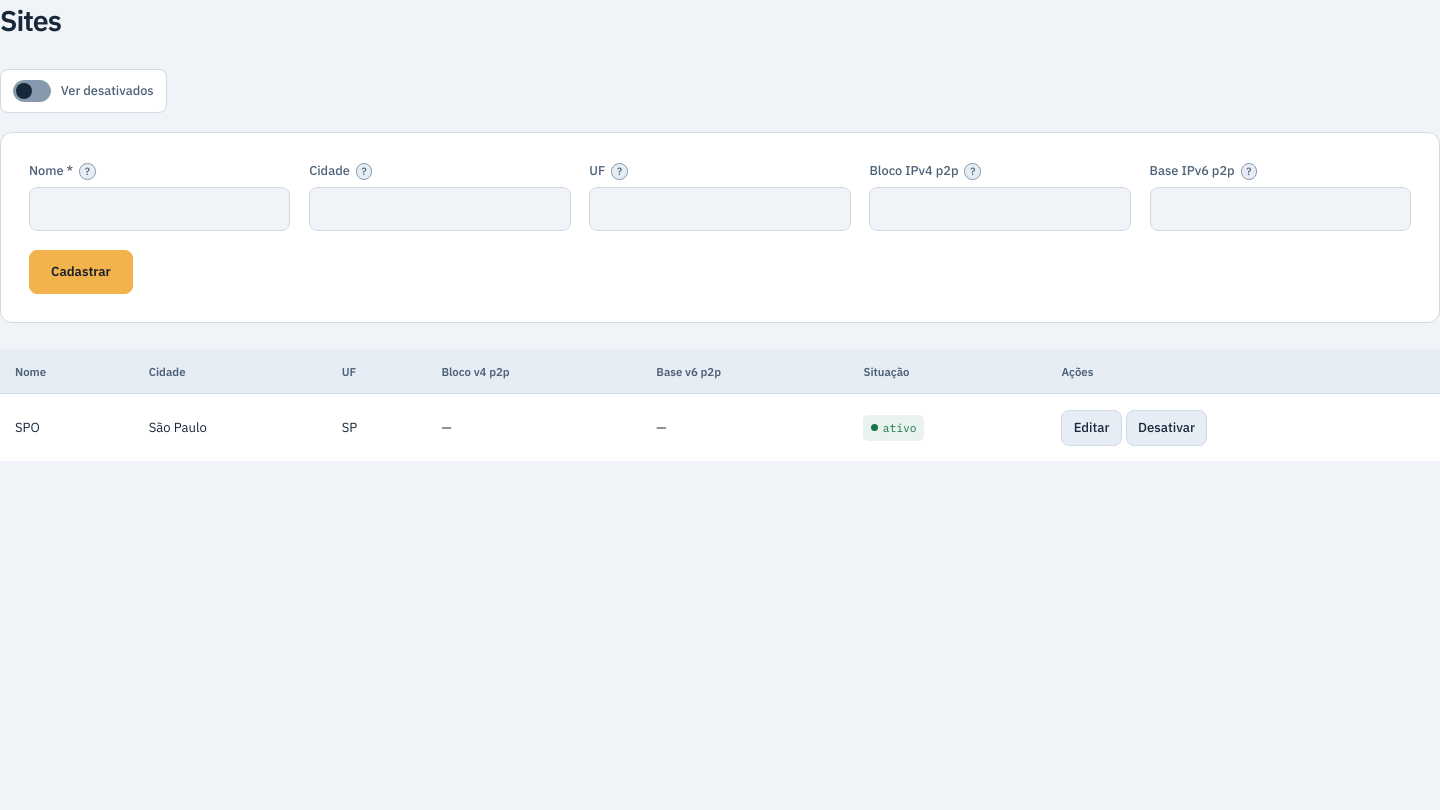
Scenario: Sites › Editar preenche o modal, envia PATCH e fecha
Check: the text "SPO" is shown, box top-left (0, 394), bottom-right (134, 462)
Click the button "Editar": (1092, 428) top-left (1062, 410), bottom-right (1122, 446)
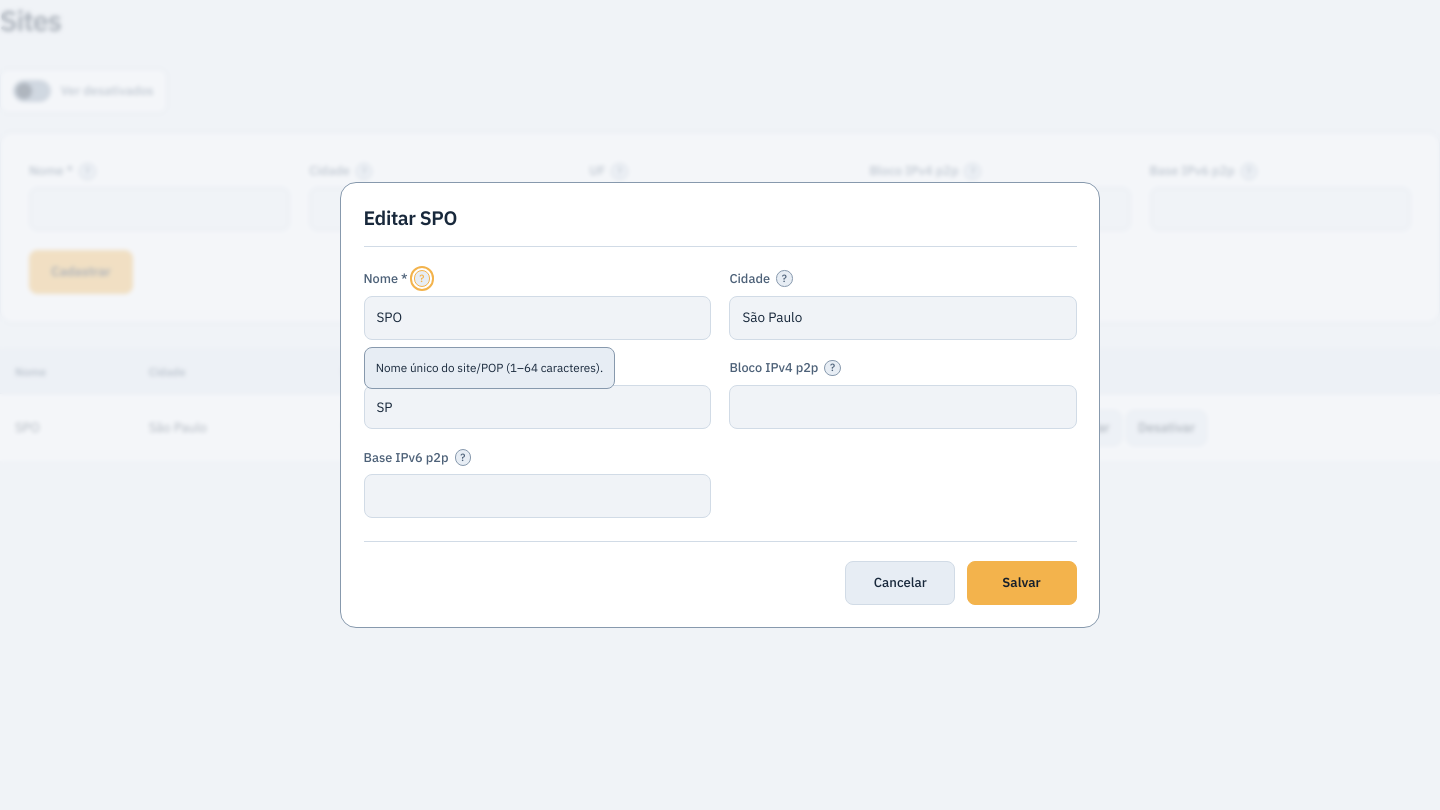
Check: the field labelled "Nome * Nome único do site/POP (1–64 caracteres). ?" holds "SPO"
Replace the text in the field labelled "Nome * Nome único do site/POP (1–64 caracteres). ?" with "SPO-2": (537, 318) top-left (364, 296), bottom-right (711, 340)
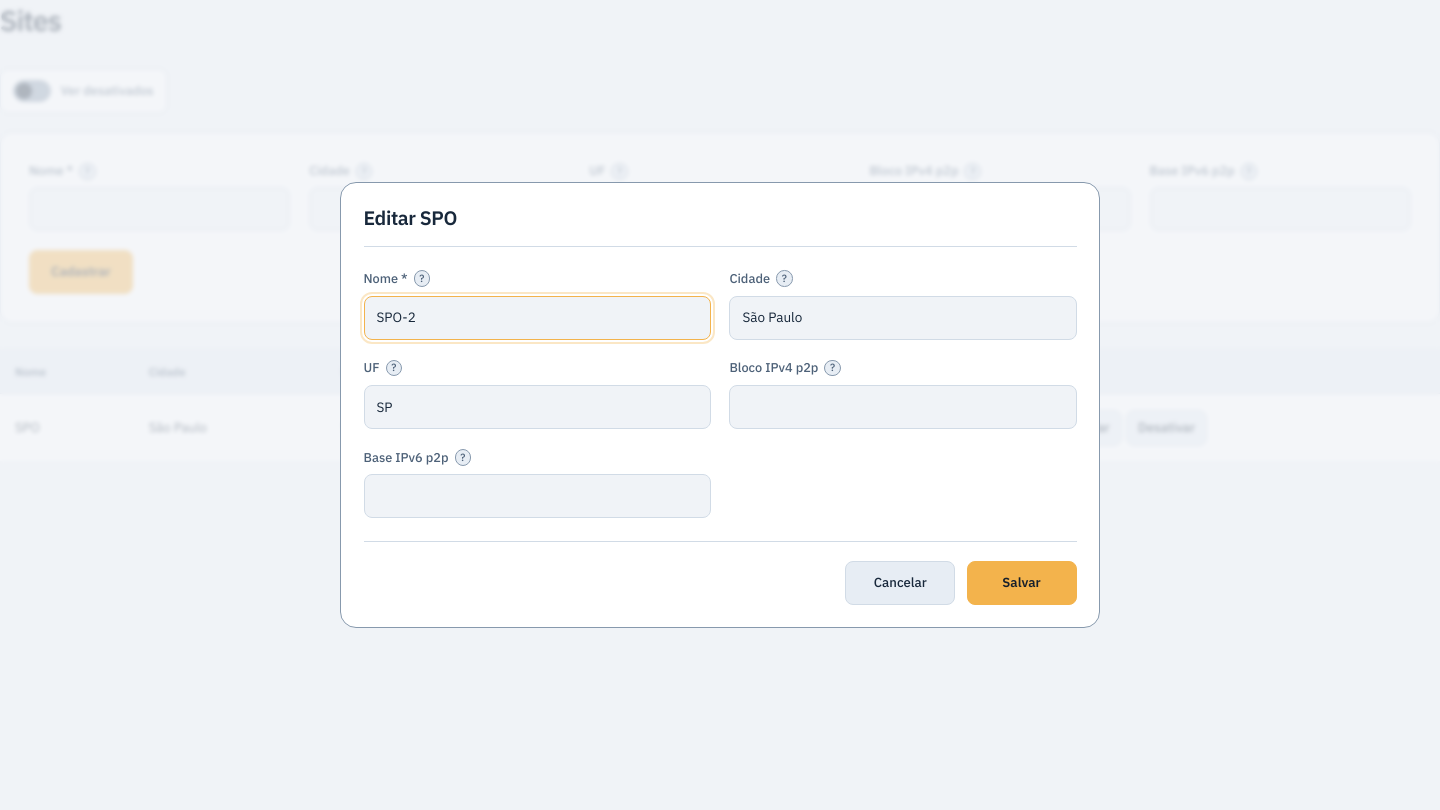
Click the button "Salvar": (1022, 583) top-left (966, 561), bottom-right (1076, 605)
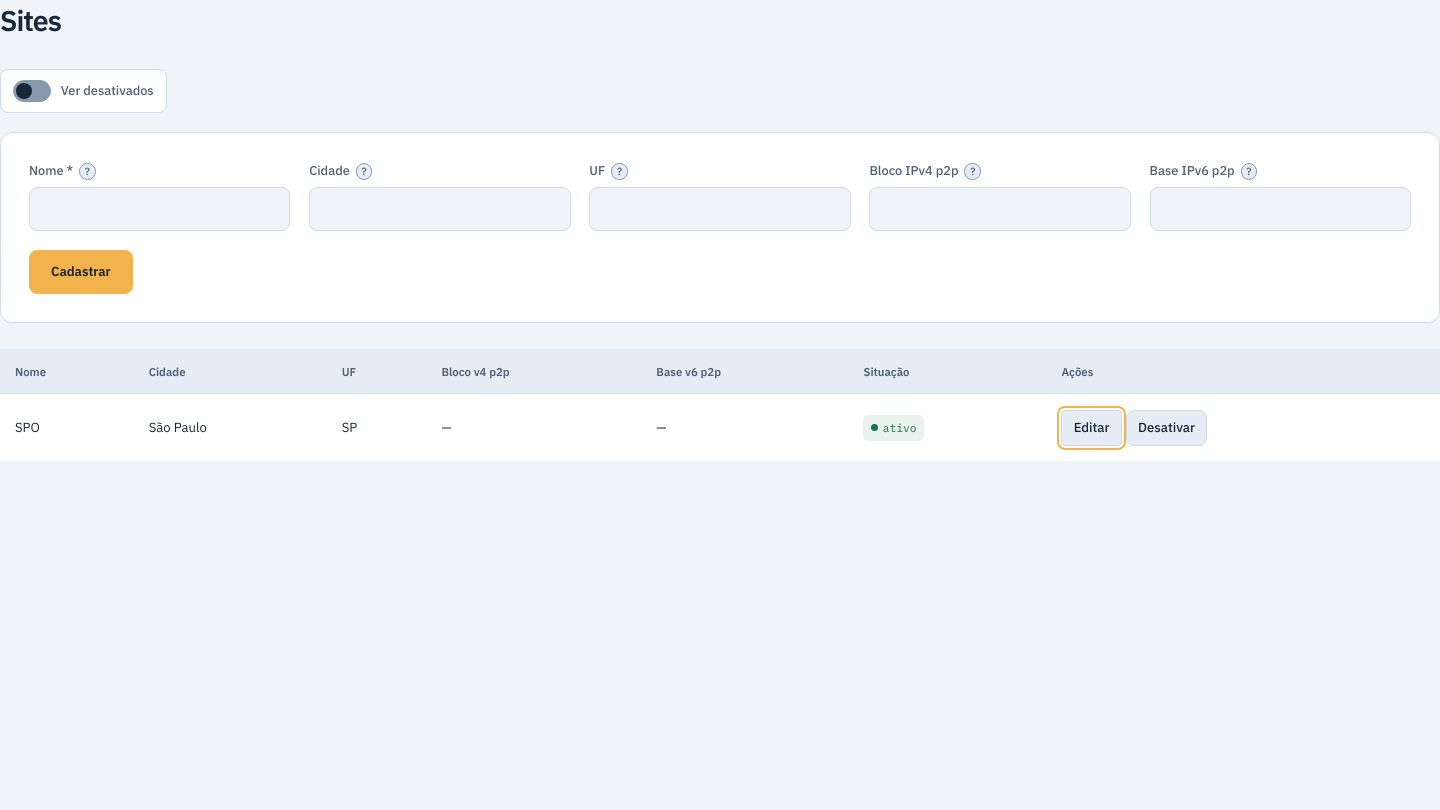
Check: the dialog is gone
